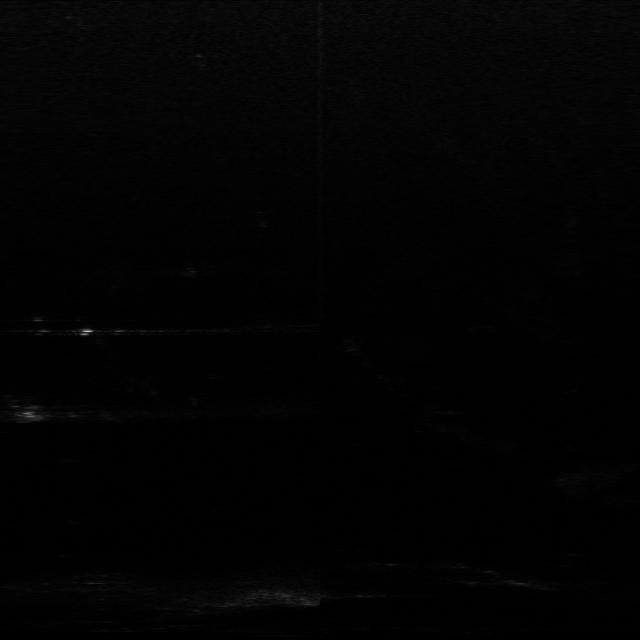rov: (13, 406, 46, 427)
